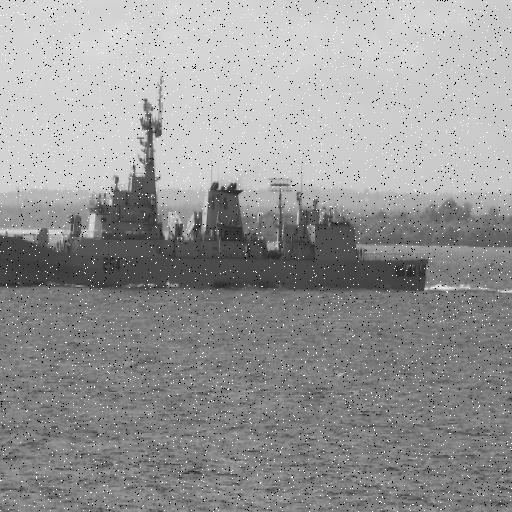Fragata: (1, 73, 433, 297)
